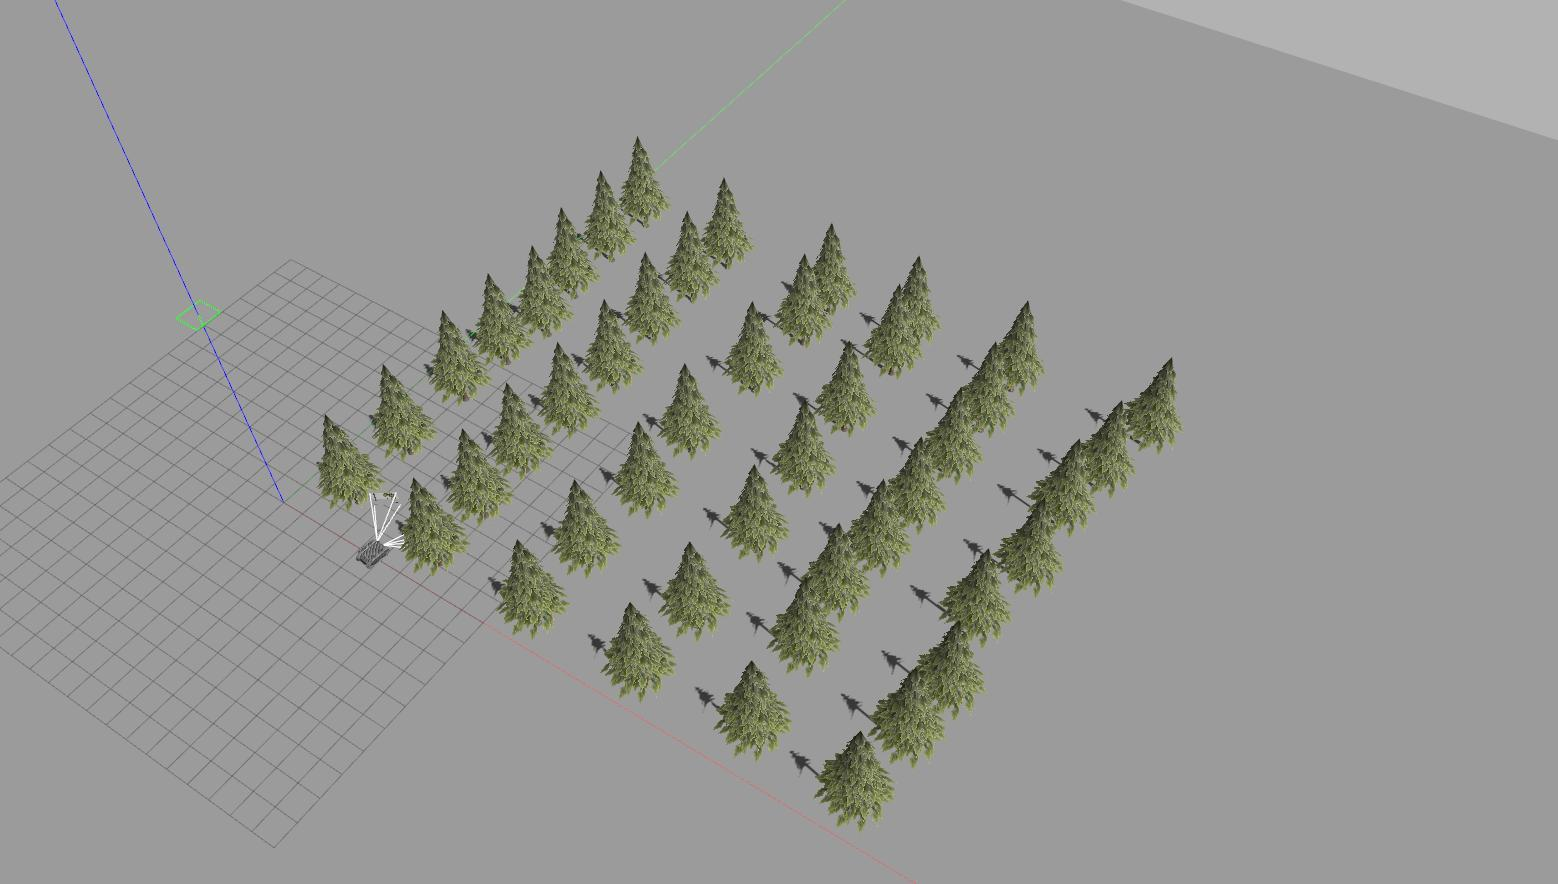tree_gazebo: (815, 733, 895, 829), (715, 660, 791, 758), (602, 603, 675, 700), (870, 672, 944, 765), (660, 542, 730, 638), (499, 542, 569, 635), (401, 477, 469, 574), (769, 584, 840, 674), (554, 481, 621, 575), (944, 551, 1010, 645), (916, 624, 983, 715), (614, 423, 678, 517), (317, 417, 383, 508), (804, 527, 870, 618), (371, 365, 436, 458), (724, 466, 789, 559), (773, 401, 837, 494), (1032, 441, 1096, 534), (998, 502, 1061, 595), (849, 481, 910, 575), (450, 429, 511, 522), (493, 383, 554, 476), (660, 365, 721, 458), (815, 340, 876, 433), (541, 344, 599, 437), (584, 301, 642, 393), (888, 438, 946, 530), (432, 310, 490, 401), (475, 274, 533, 365), (624, 253, 682, 342), (724, 304, 782, 394), (517, 246, 572, 338), (1126, 360, 1180, 451), (1083, 401, 1135, 496), (776, 256, 830, 346), (548, 210, 599, 299), (584, 173, 636, 260), (667, 213, 718, 300), (703, 180, 754, 266), (621, 137, 670, 227), (812, 225, 855, 317)
